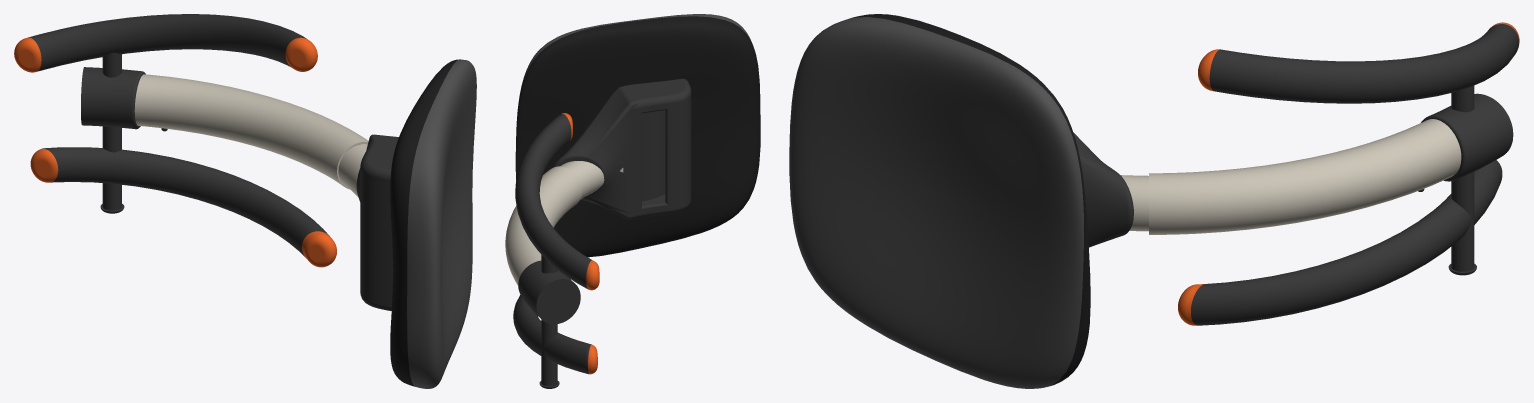
File: c-seat-config-1.glb
3 views of the same model, side by side, from view 1: azimuth 30°, elevation 25°; view 2: azimuth 150°, elevation 25°; view 3: azimuth 270°, elevation 25° (orthographic). The views are drawn at different scales.
Parts seen in each view (by area): view 1: Asiento arriba, Brazo inferior, Pata izq, Pata derec, Asiento abajo, Soporte asiebto, Tapa, Eje, Goma pata, Goma pata (3), Brazo superior, Goma pata (2) (+1 smaller); view 2: Asiento abajo, Soporte asiebto, Pata derec, Brazo inferior, Tapa, Pata izq, Eje, Brazo superior, Asiento arriba, Goma pata (2), Goma pata (1); view 3: Asiento arriba, Brazo inferior, Pata izq, Pata derec, Tapa, Soporte asiebto, Asiento abajo, Eje, Brazo superior.
Boxes of the visible parts, x1,y1,x2,y2 form: Asiento arriba: (407,59,476,388); Brazo inferior: (134,74,368,189); Pata izq: (42,147,329,256); Pata derec: (28,14,307,71); Asiento abajo: (390,59,460,386); Soporte asiebto: (356,134,398,310); Tapa: (81,67,145,129); Eje: (100,52,124,213); Goma pata: (302,231,336,267); Goma pata (3): (285,37,317,71); Brazo superior: (338,144,367,197); Goma pata (2): (14,37,41,72); Asiento abajo: (515,16,760,257); Soporte asiebto: (553,78,691,219); Pata derec: (515,114,591,288); Brazo inferior: (505,166,582,285); Tapa: (518,260,580,324); Pata izq: (513,295,591,374); Eje: (539,255,559,388); Brazo superior: (560,161,623,199); Asiento arriba: (518,14,754,101); Goma pata (2): (586,260,599,290); Goma pata (1): (588,344,597,374); Asiento arriba: (789,17,1083,388); Brazo inferior: (1149,119,1461,234); Pata izq: (1191,160,1502,325); Pata derec: (1209,24,1518,103); Tapa: (1421,93,1513,181); Soporte asiebto: (1073,132,1133,247); Asiento abajo: (850,14,1090,386); Eje: (1448,85,1476,275); Brazo superior: (1120,175,1148,231).
Size of the model in its own units: 0.2462 by 0.2329 by 0.4727.
